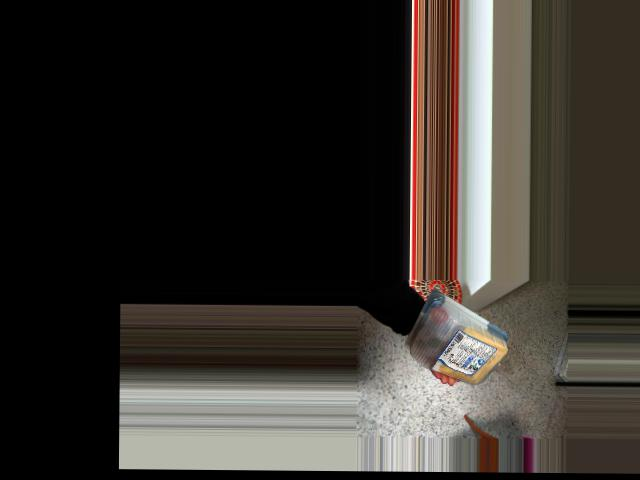cheese: (400, 283, 515, 393)
